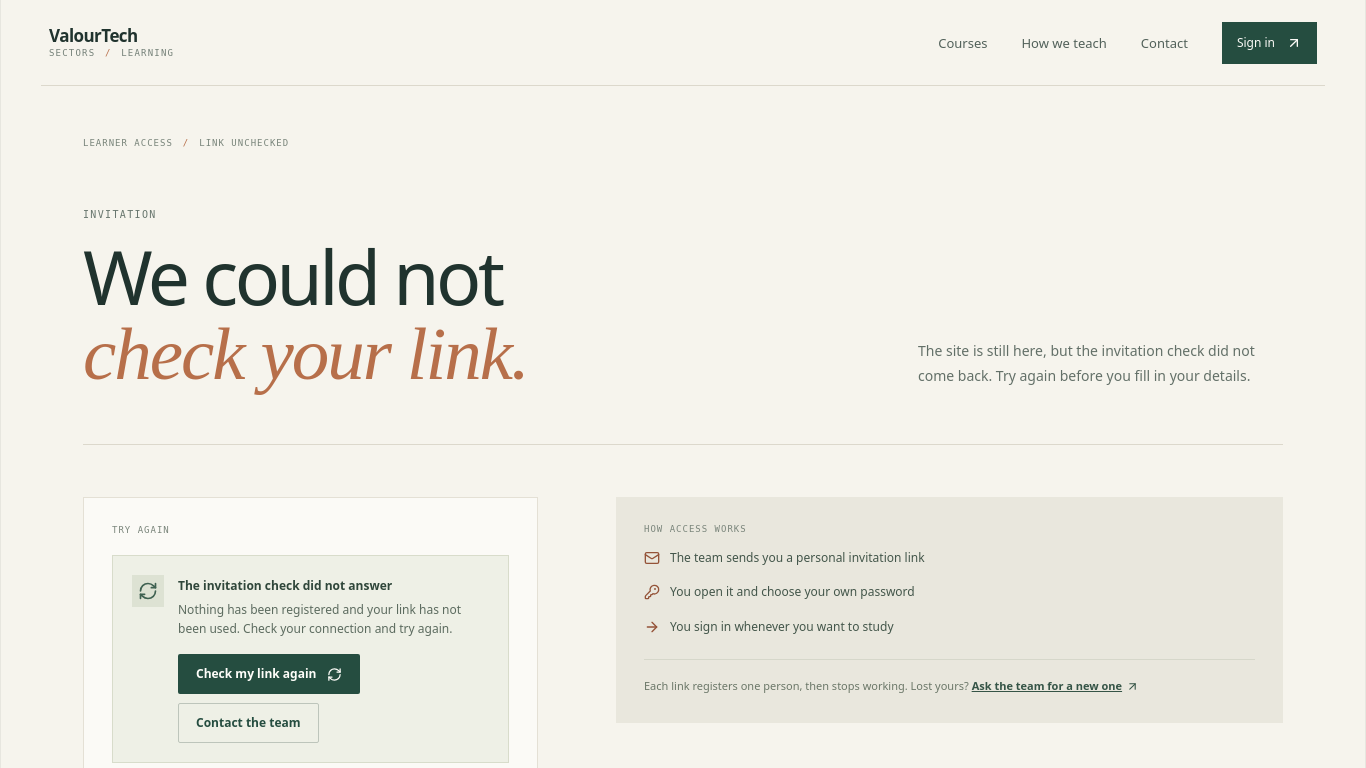
invitation links › offers a way to check again when the check does not answer
This screenshot has width=1366, height=768.
Expected: the text "The invitation check did not answer" is shown, left=178, top=576, right=392, bottom=594
Expected: the field labelled "Email address" is not shown
Click the button "Check my link again": (269, 674) left=178, top=654, right=360, bottom=694
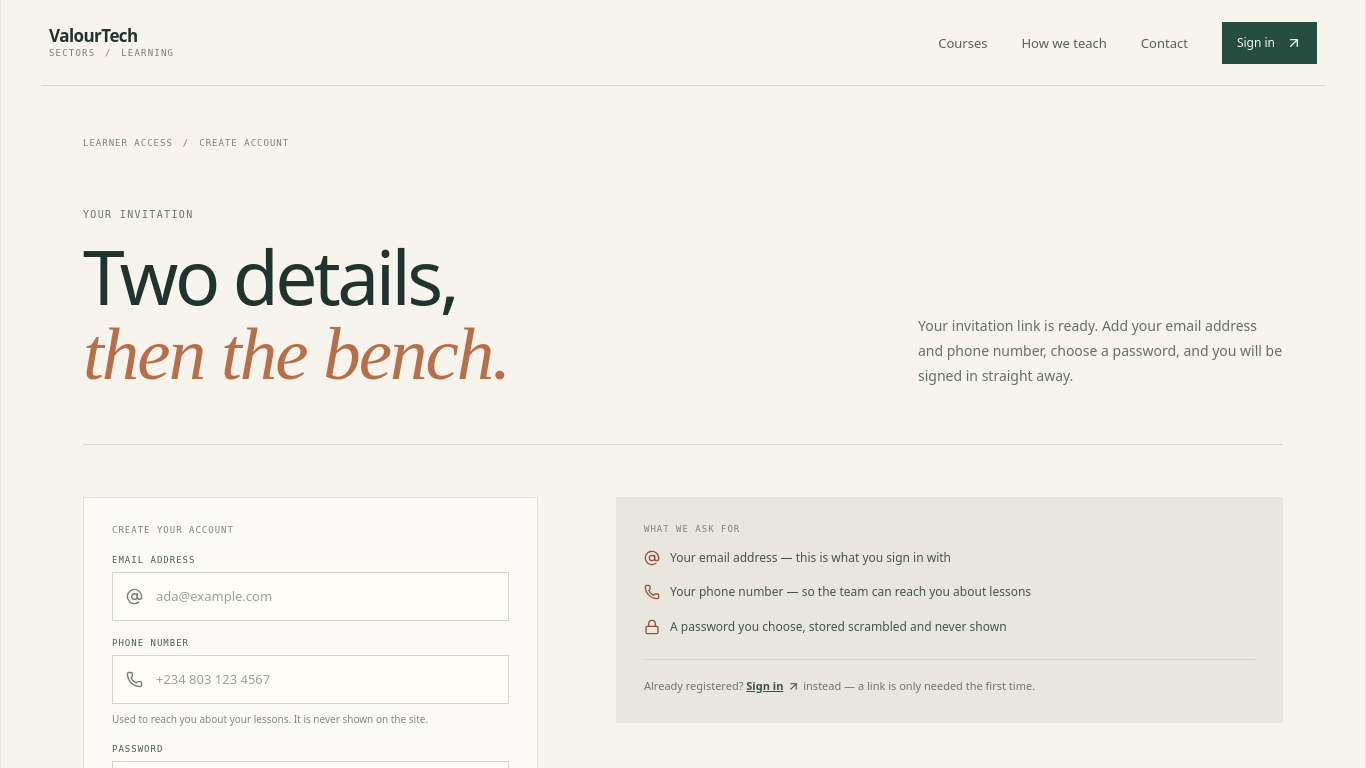
Expected: the field labelled "Email address" is shown, left=154, top=586, right=495, bottom=606
